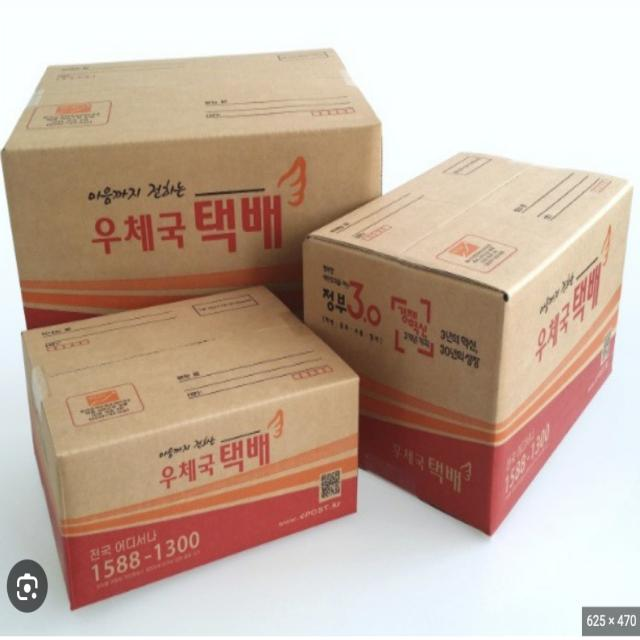biodegradable: (285, 92, 635, 575), (4, 19, 404, 361), (11, 269, 387, 617)
